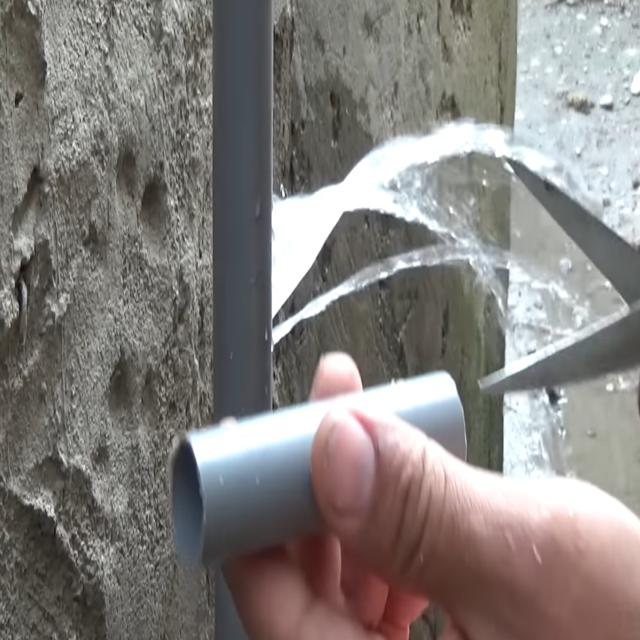leak: (272, 120, 552, 344)
